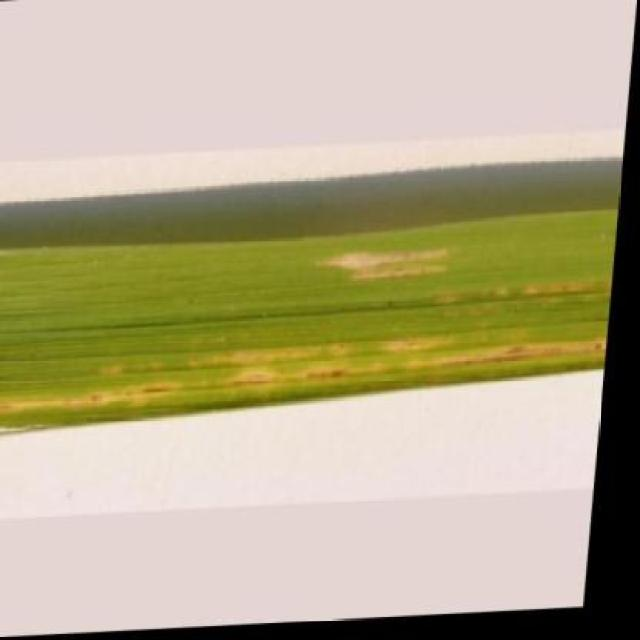Brown_Spot: (0, 209, 625, 443)
